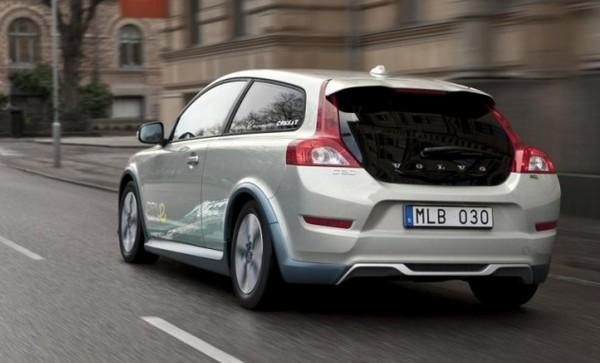car: (92, 51, 577, 323)
